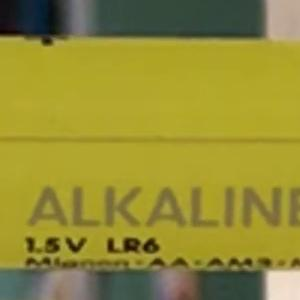keyword: (21, 179, 142, 234)
